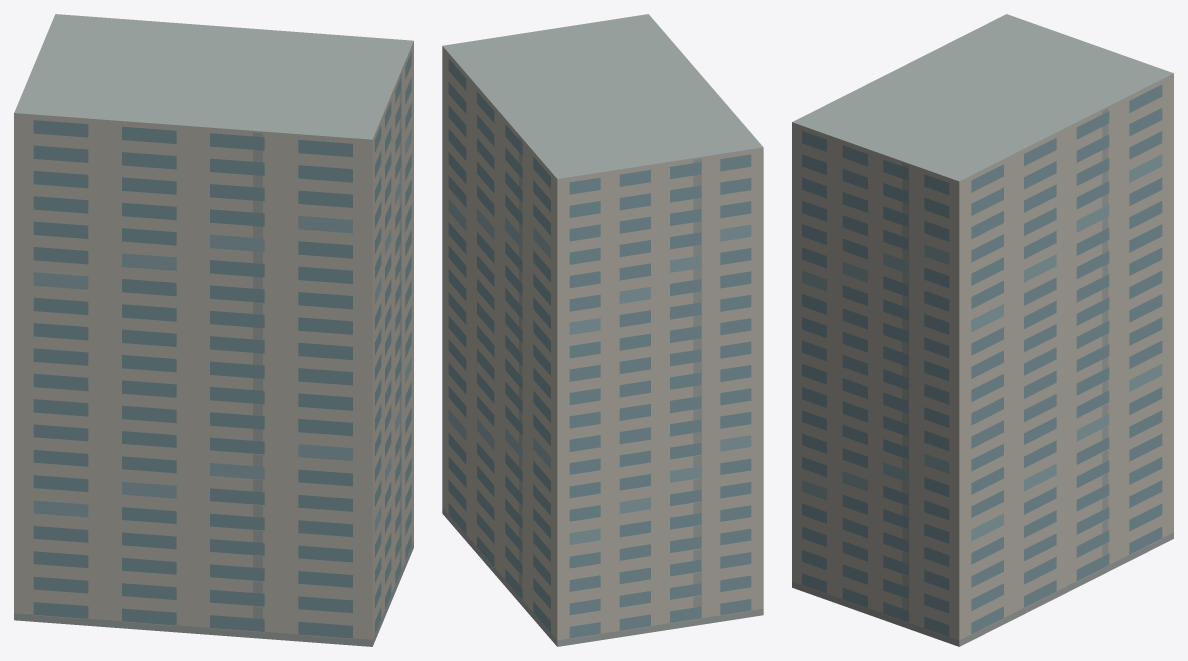
File: residential-69c3dce4-9ed8-4f59-b08b-2442adf1eea8.glb
3 views of the same model, side by side, from view 1: azimuth 30°, elevation 25°; view 2: azimuth 150°, elevation 25°; view 3: azimuth 270°, elevation 25° (orthographic). The views are drawn at different scales.
Parts seen in each view (by area): view 1: residential-69c3dce4-9ed8-4f59-b08b-2442adf1eea8.tmp; view 2: residential-69c3dce4-9ed8-4f59-b08b-2442adf1eea8.tmp; view 3: residential-69c3dce4-9ed8-4f59-b08b-2442adf1eea8.tmp.
Part boxes in pixels (bbox=[...]): residential-69c3dce4-9ed8-4f59-b08b-2442adf1eea8.tmp: bbox=[14, 14, 413, 646]; residential-69c3dce4-9ed8-4f59-b08b-2442adf1eea8.tmp: bbox=[442, 14, 763, 646]; residential-69c3dce4-9ed8-4f59-b08b-2442adf1eea8.tmp: bbox=[792, 14, 1173, 646].
Bounding box in the file's own units: 50.92 × 66 × 49.08.
